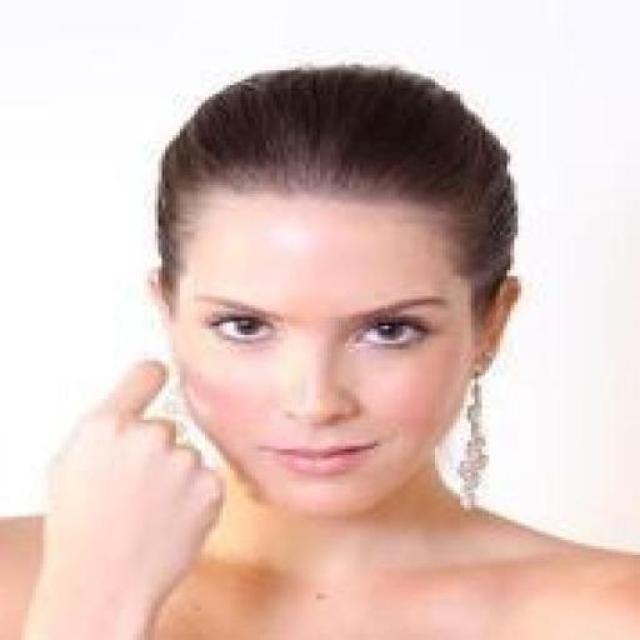bareface: (154, 95, 483, 531)
